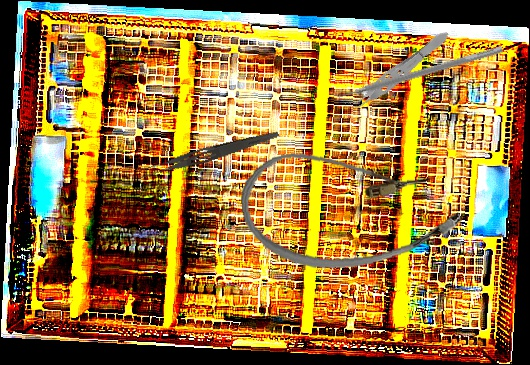Cannula: (236, 135, 466, 278)
Dressing Forceps: (137, 124, 281, 182)
Spatula Surgical: (328, 38, 504, 105)
Tissue Forceps: (340, 24, 455, 120)
